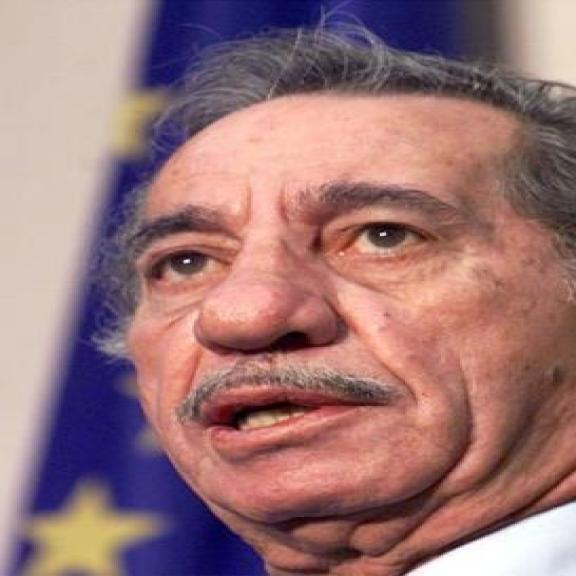face: (127, 81, 557, 531)
